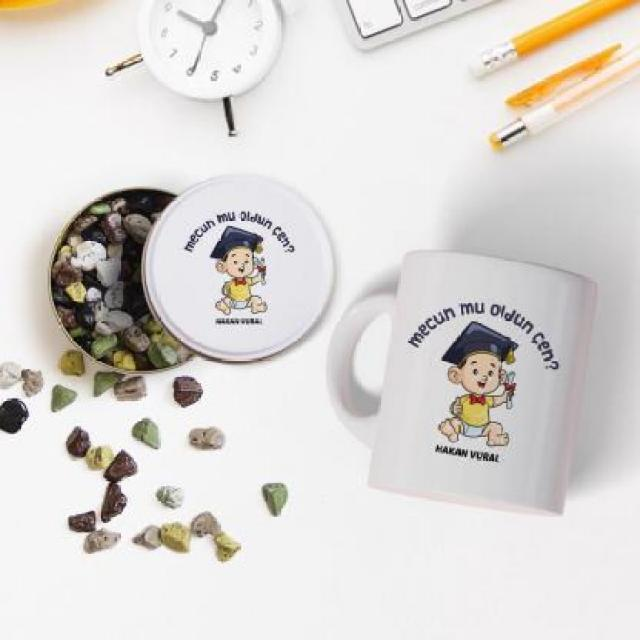taza: (325, 248, 596, 520)
